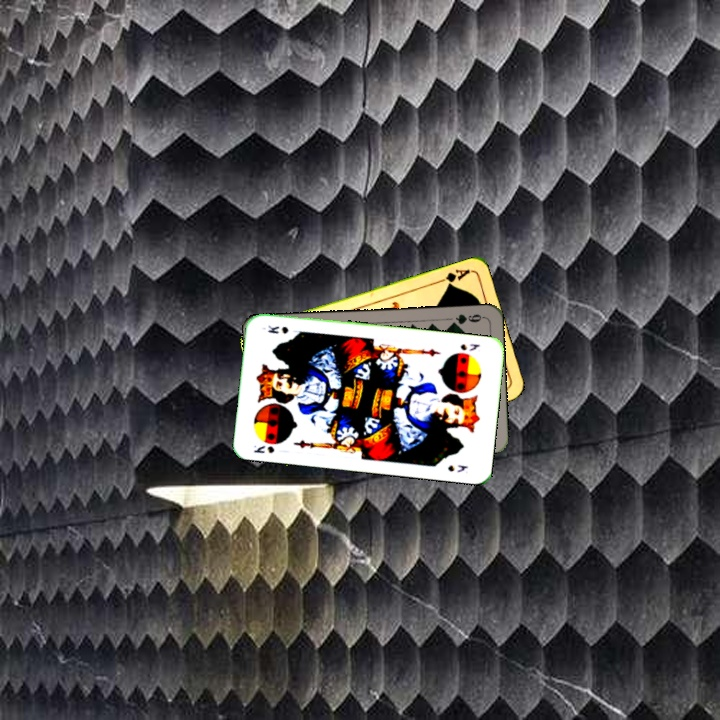G9: (446, 310, 486, 329)
GA: (433, 265, 472, 289)
SK: (249, 441, 277, 456), (456, 340, 483, 353)
